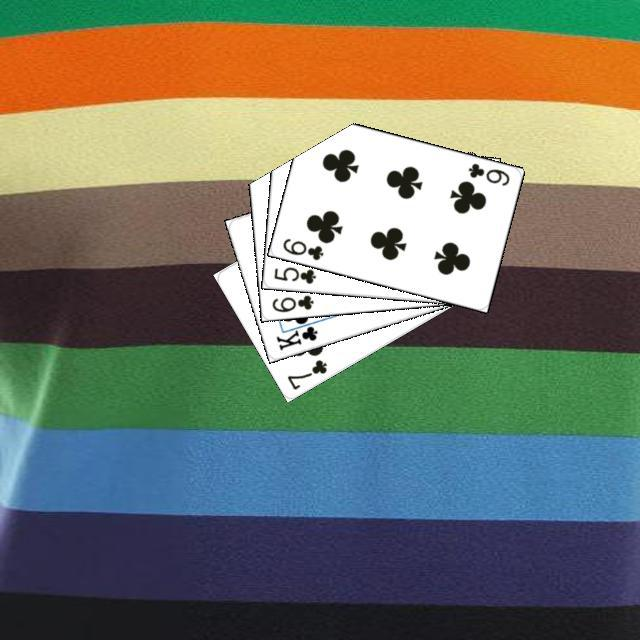5c: (269, 262, 317, 285)
6c: (463, 158, 511, 187), (278, 233, 325, 262), (267, 290, 315, 314)
7c: (282, 354, 329, 392)
Kc: (271, 315, 321, 352)
